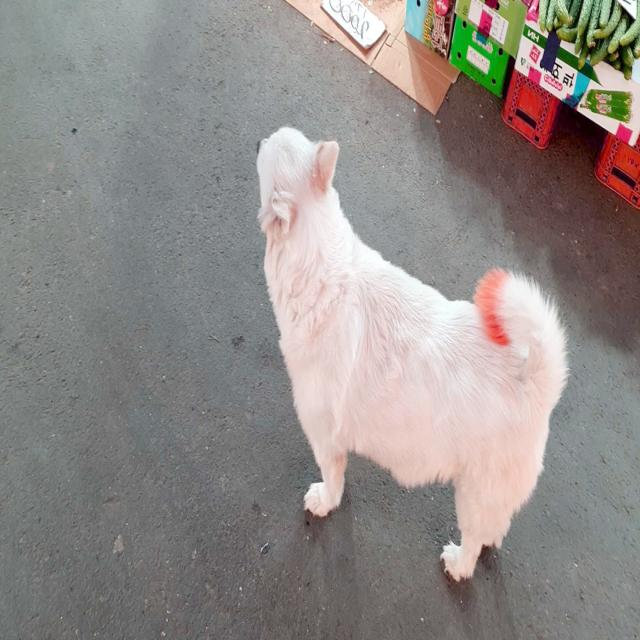Dog: (256, 127, 572, 583)
